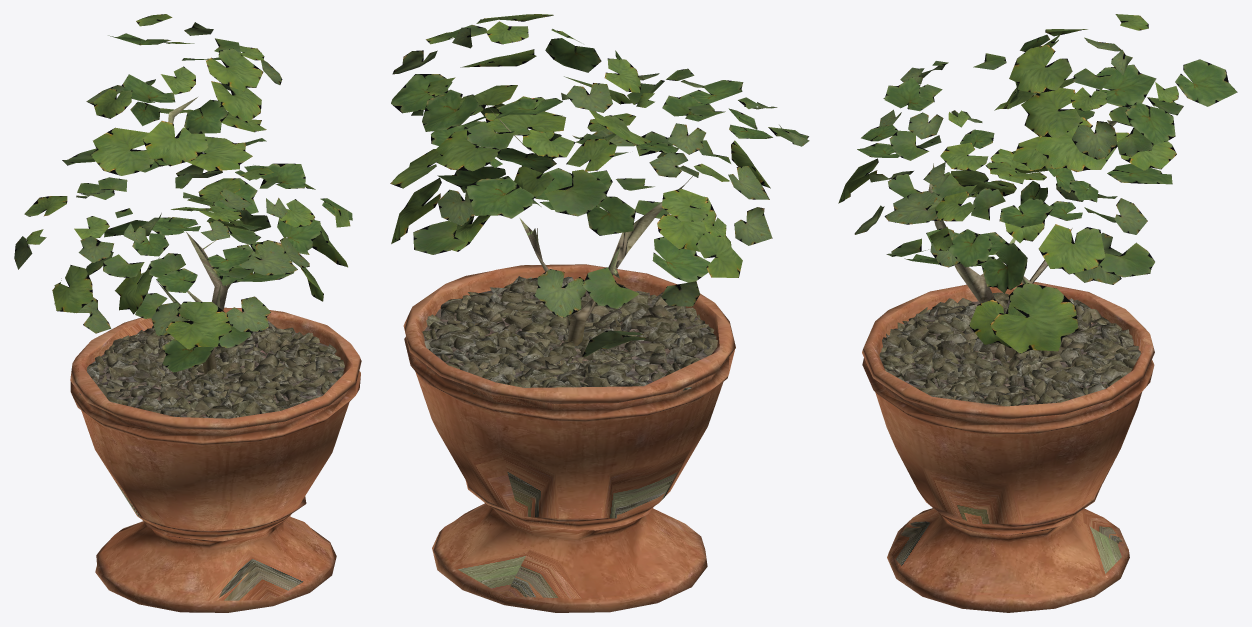
Rendered from potted_plant_01_lod2.glb.
3 renders of one model, left to right at view 1: azimuth 30°, elevation 25°; view 2: azimuth 150°, elevation 25°; view 3: azimuth 270°, elevation 25°, orthographic. The views are drawn at different scales.
Parts seen in each view (by area): view 1: potted_plant_01_pot, potted_plant_01_leaves, potted_plant_01_pebbles, potted_plant_01_stem; view 2: potted_plant_01_pot, potted_plant_01_leaves, potted_plant_01_pebbles, potted_plant_01_stem; view 3: potted_plant_01_pot, potted_plant_01_leaves, potted_plant_01_pebbles, potted_plant_01_stem.
Part boxes in pixels (left/top/right/bottom): potted_plant_01_pot: left=70, top=307, right=361, bottom=612; potted_plant_01_leaves: left=14, top=14, right=352, bottom=372; potted_plant_01_pebbles: left=79, top=320, right=344, bottom=427; potted_plant_01_stem: left=157, top=97, right=230, bottom=373; potted_plant_01_pot: left=403, top=264, right=735, bottom=612; potted_plant_01_leaves: left=390, top=14, right=809, bottom=357; potted_plant_01_pebbles: left=422, top=276, right=717, bottom=393; potted_plant_01_stem: left=485, top=103, right=696, bottom=345; potted_plant_01_pot: left=862, top=282, right=1154, bottom=612; potted_plant_01_leaves: left=838, top=14, right=1237, bottom=353; potted_plant_01_pebbles: left=879, top=292, right=1141, bottom=406; potted_plant_01_stem: left=928, top=120, right=1116, bottom=358.
Bounding box in the file's own units: 0.3995 × 0.5932 × 0.4.
Materials: 2 (2 with a texture image).
